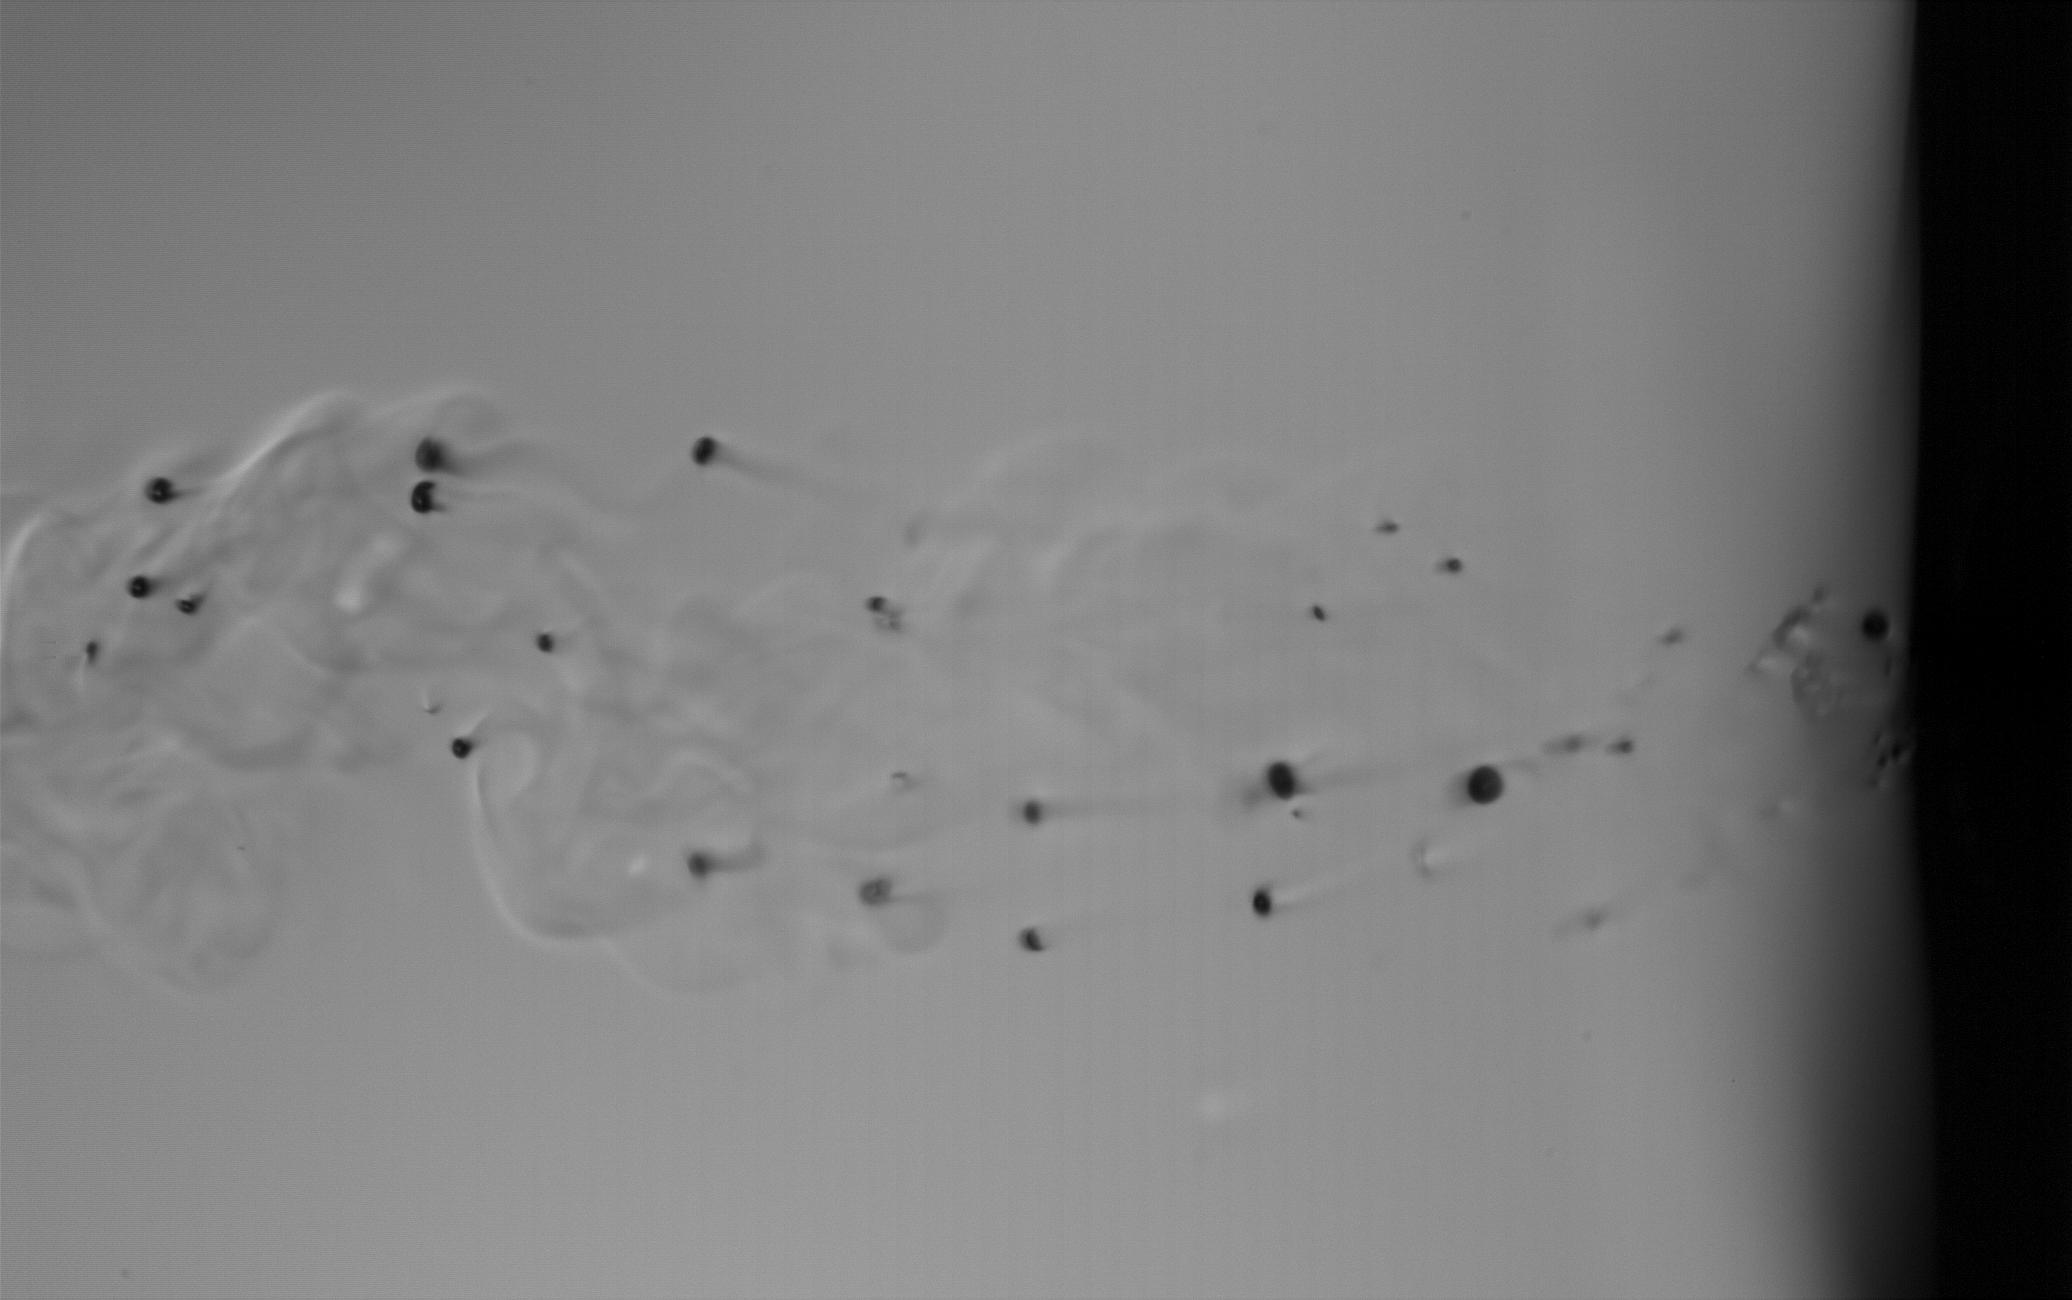Blurry: (1747, 575, 1832, 675), (672, 843, 768, 885), (1547, 899, 1627, 947), (165, 568, 234, 622), (852, 869, 909, 923), (400, 476, 454, 527), (856, 584, 907, 637), (73, 625, 109, 684), (1538, 731, 1593, 765), (1650, 622, 1695, 657), (1600, 729, 1639, 768), (1367, 509, 1410, 544), (1301, 595, 1335, 634), (1020, 924, 1049, 960)
ClassicalEvaporation: (1455, 758, 1508, 813), (1256, 750, 1304, 810), (135, 467, 183, 512), (683, 428, 729, 473), (410, 430, 458, 473), (1011, 791, 1049, 837), (118, 568, 162, 605), (1853, 605, 1889, 646), (1246, 884, 1279, 924), (446, 731, 481, 764), (528, 628, 561, 660), (1434, 554, 1463, 577)
